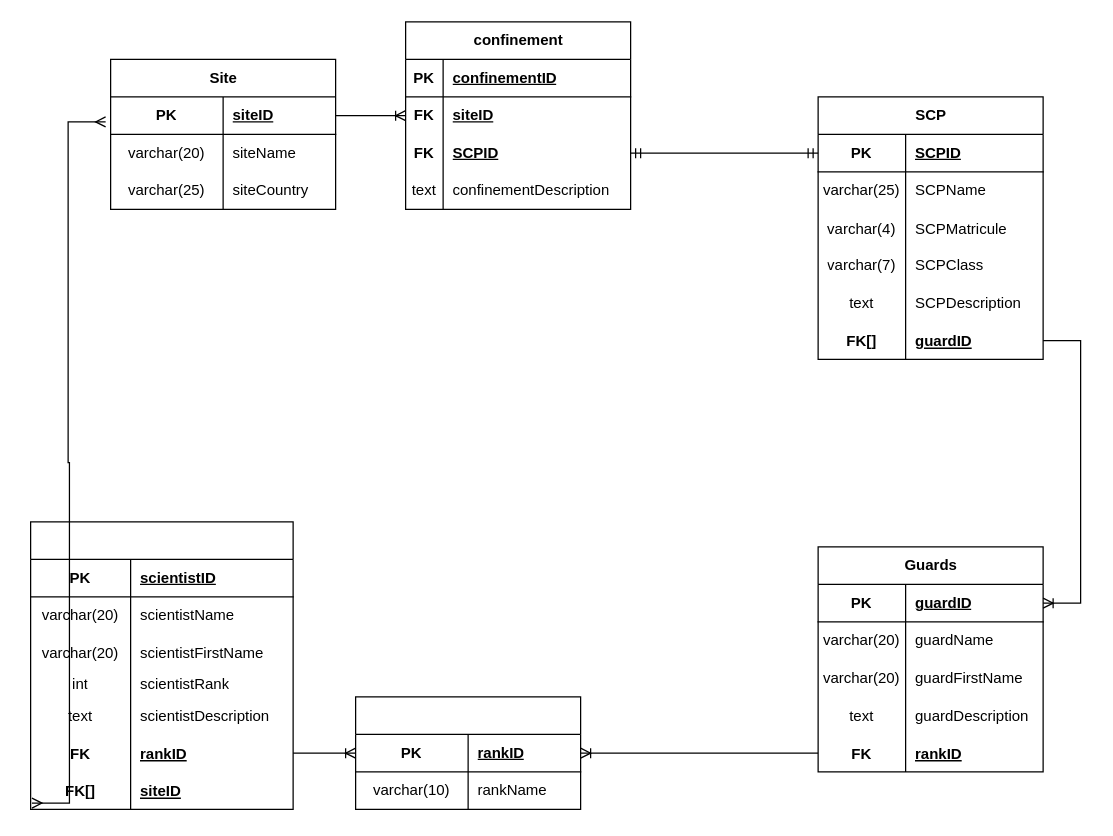
Image size: 1113x836. Some labels were removed from this diagram. Each missing label, with the box of its shape:
Ranks: (354, 696, 581, 809)
Scientists: (29, 521, 293, 809)
